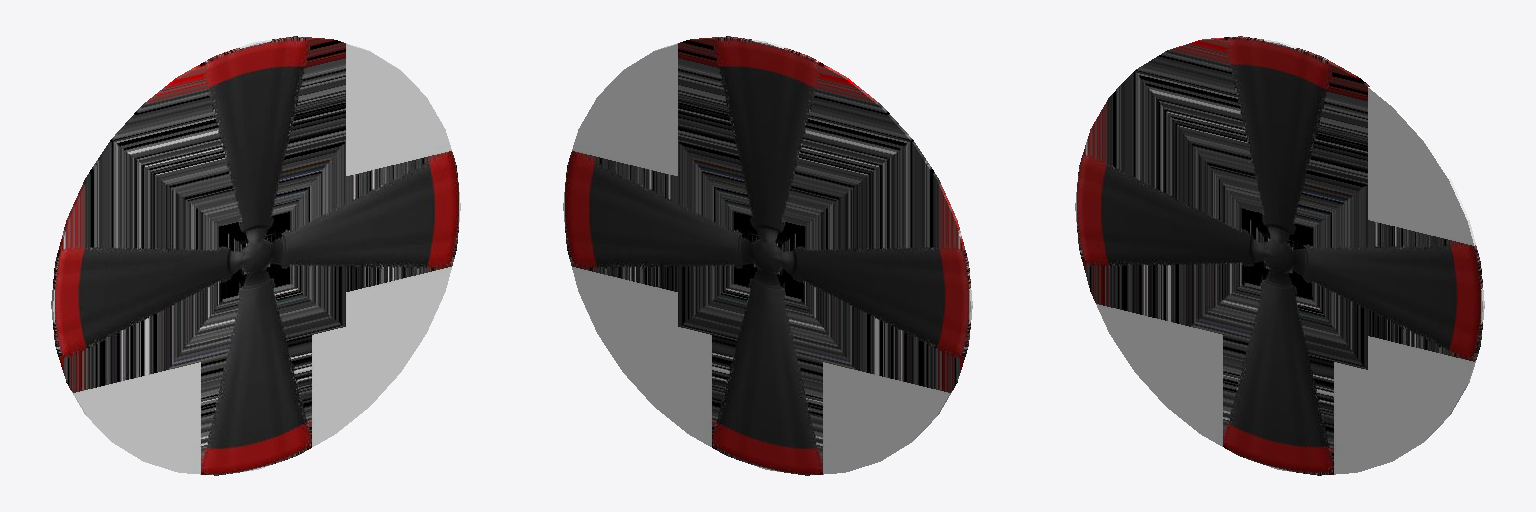
3 renders of one model, left to right at view 1: azimuth 30°, elevation 25°; view 2: azimuth 150°, elevation 25°; view 3: azimuth 330°, elevation 25°, orthographic.
Visible parts, largest first — view 1: RotorDisc; view 2: RotorDisc; view 3: RotorDisc.
Boxes of the visible parts, x1=… form: RotorDisc: x1=51, y1=36, x2=460, y2=475; RotorDisc: x1=563, y1=36, x2=972, y2=475; RotorDisc: x1=1075, y1=36, x2=1484, y2=475.
Size of the model in its own units: 32.6 by 32.6 by 0.2582.
Materials: 1 (1 with a texture image).